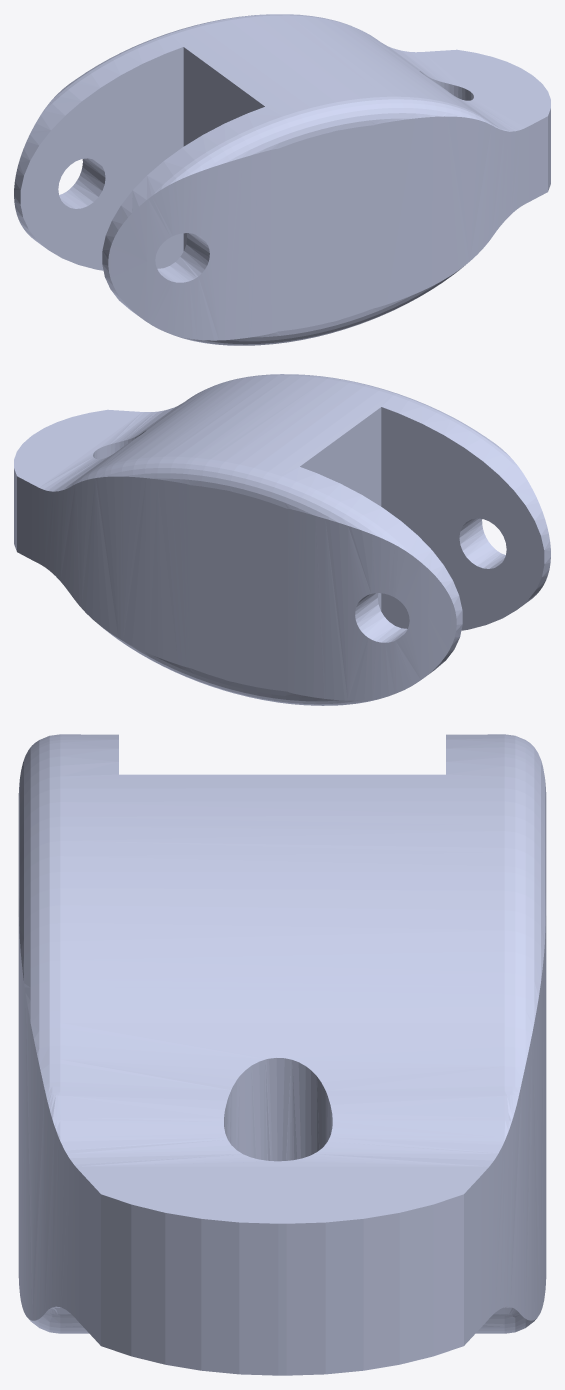
The model's file is tool_wrist_sca_link.obj.
3 renders of one model, top to bottom at view 1: azimuth 30°, elevation 25°; view 2: azimuth 150°, elevation 25°; view 3: azimuth 270°, elevation 25°, orthographic. The views are drawn at different scales.
Visible parts, largest first — view 1: ActorShape0_0-Mesh; view 2: ActorShape0_0-Mesh; view 3: ActorShape0_0-Mesh.
Boxes of the visible parts, x1,y1,x2,y2 form: ActorShape0_0-Mesh: (14, 14, 550, 345); ActorShape0_0-Mesh: (14, 374, 550, 705); ActorShape0_0-Mesh: (18, 734, 546, 1375).
Size of the model in its own units: 0.013 by 0.006 by 0.0063.
